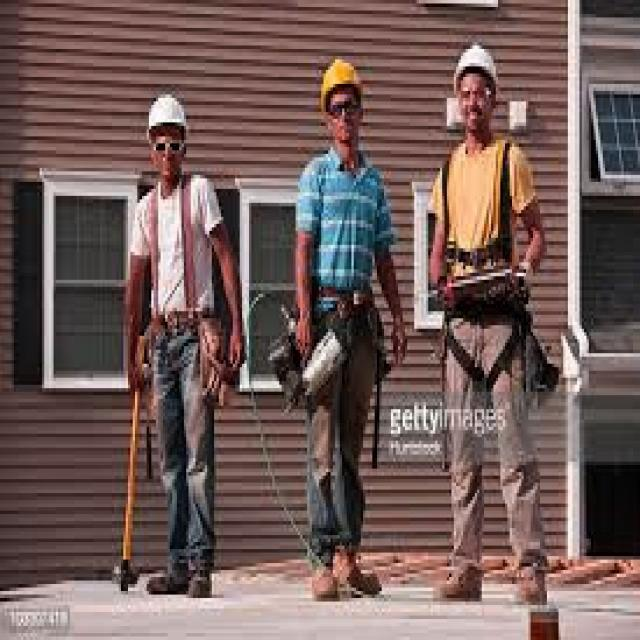hammer: (104, 326, 154, 604)
